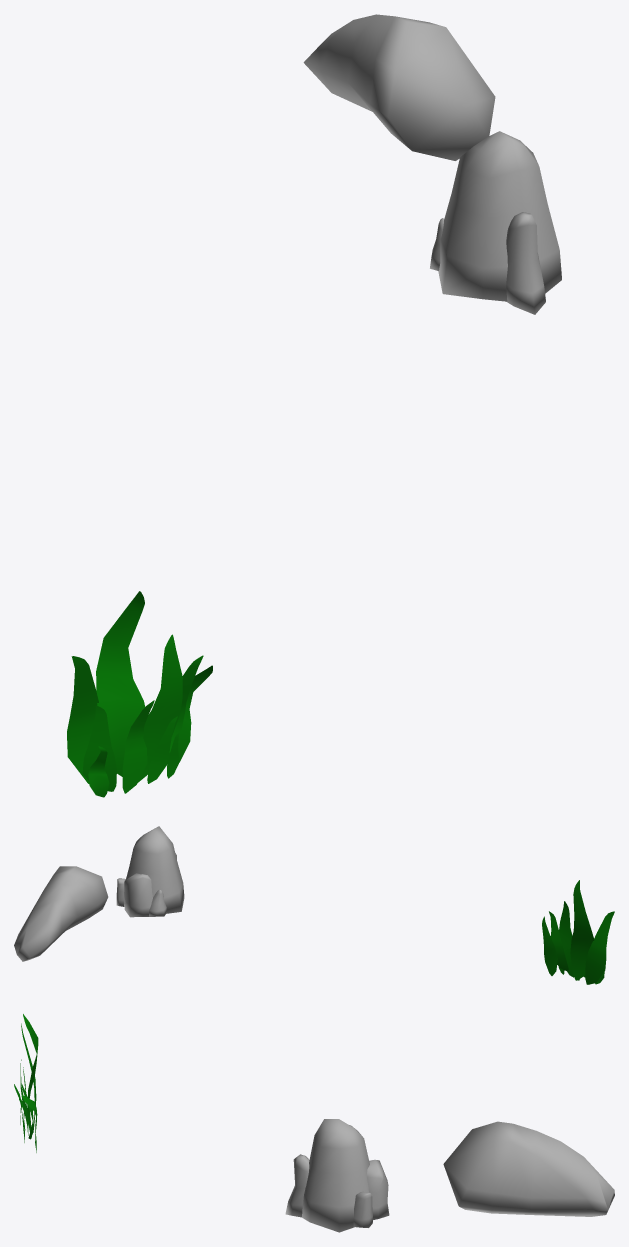
Rendered from GrassPack.fbx.
3 renders of one model, top to bottom at view 1: azimuth 30°, elevation 25°; view 2: azimuth 150°, elevation 25°; view 3: azimuth 270°, elevation 25°, orthographic. The views are drawn at different scales.
Parts seen in each view (by area): view 1: Rock_02, Rock_01, Grass_Group; view 2: Rock_02, Rock_01, Grass_Group; view 3: Rock_02, Rock_01, Grass_Group.
Part boxes in pixels (bbox=[...]): Rock_02: bbox=[303, 14, 495, 160]; Rock_01: bbox=[430, 131, 561, 314]; Grass_Group: bbox=[67, 591, 212, 797]; Rock_02: bbox=[14, 866, 108, 961]; Rock_01: bbox=[116, 826, 184, 917]; Grass_Group: bbox=[542, 880, 614, 984]; Rock_02: bbox=[443, 1121, 614, 1216]; Rock_01: bbox=[285, 1119, 389, 1232]; Grass_Group: bbox=[14, 1014, 38, 1152].
Size of the model in its own units: 509 by 216 by 536.
